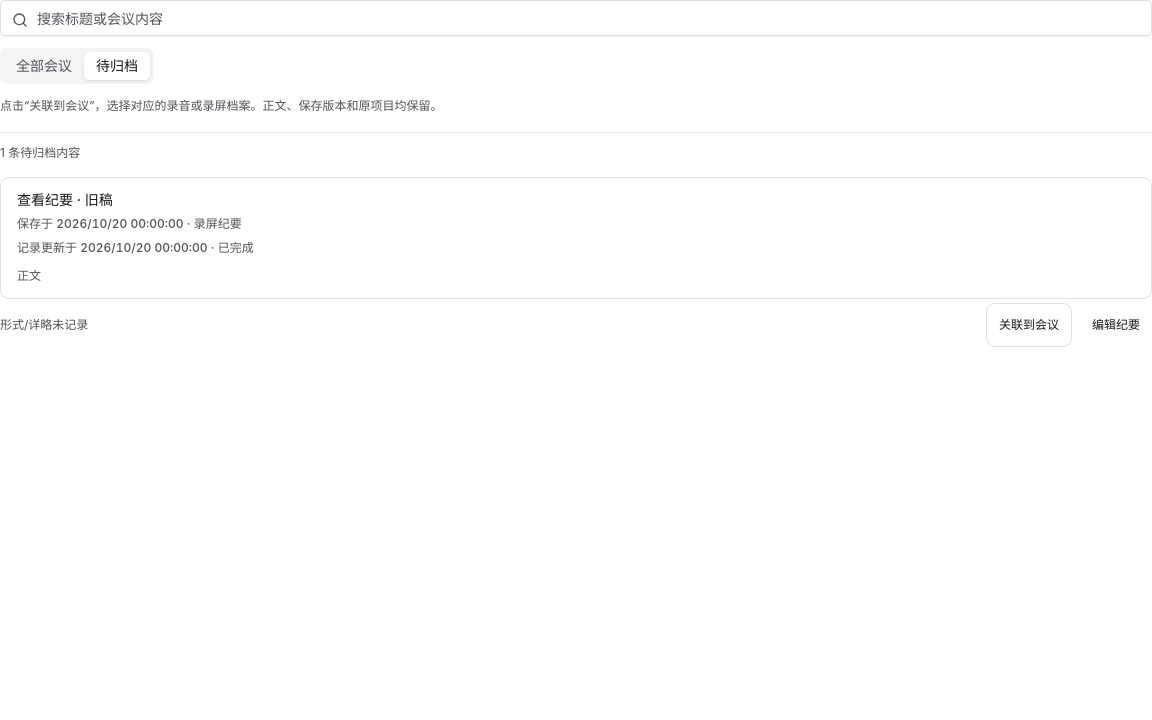
exposes association only for pending device note records and closes on route changes
Click the button with aria-label "关联《旧稿》到会议".
click(1029, 325)  # box [986,303,1072,347]
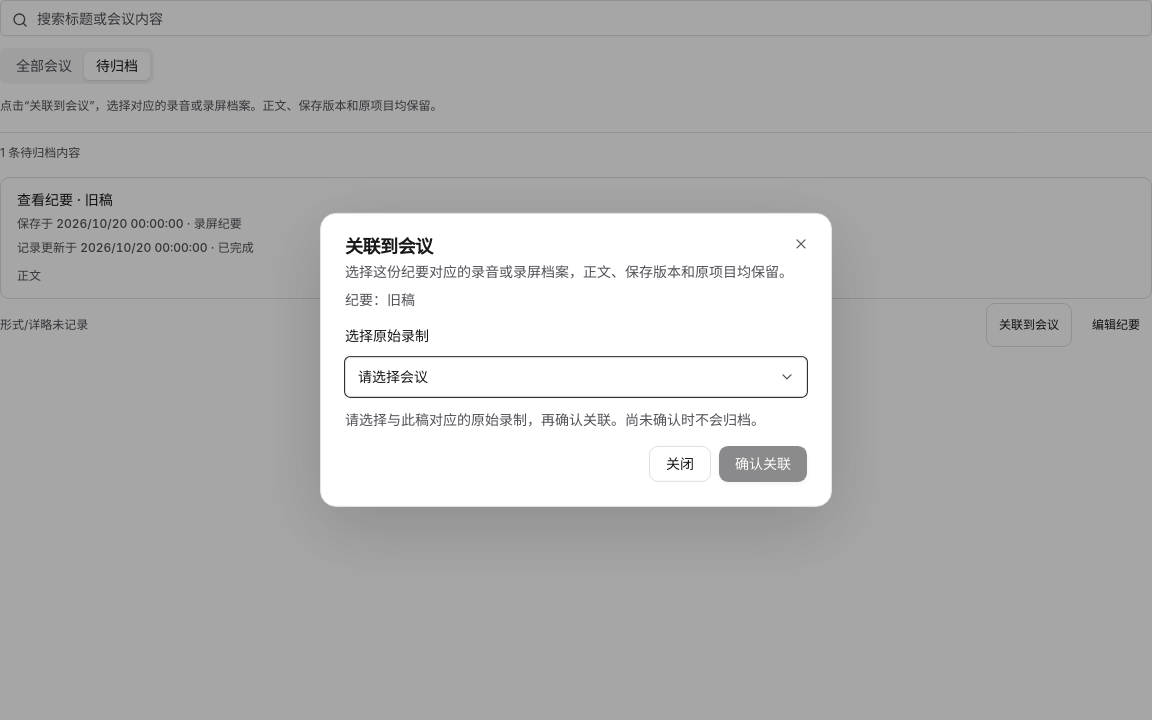
Expected: the dialog "关联到会议" is shown, [320,213,832,507]
